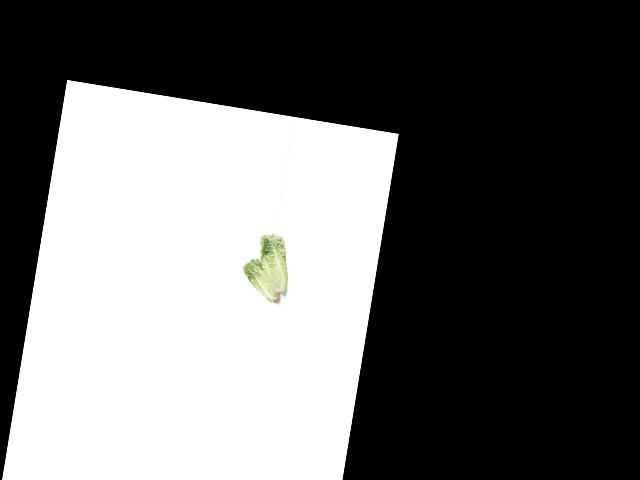lettuce: (237, 256, 287, 306)
